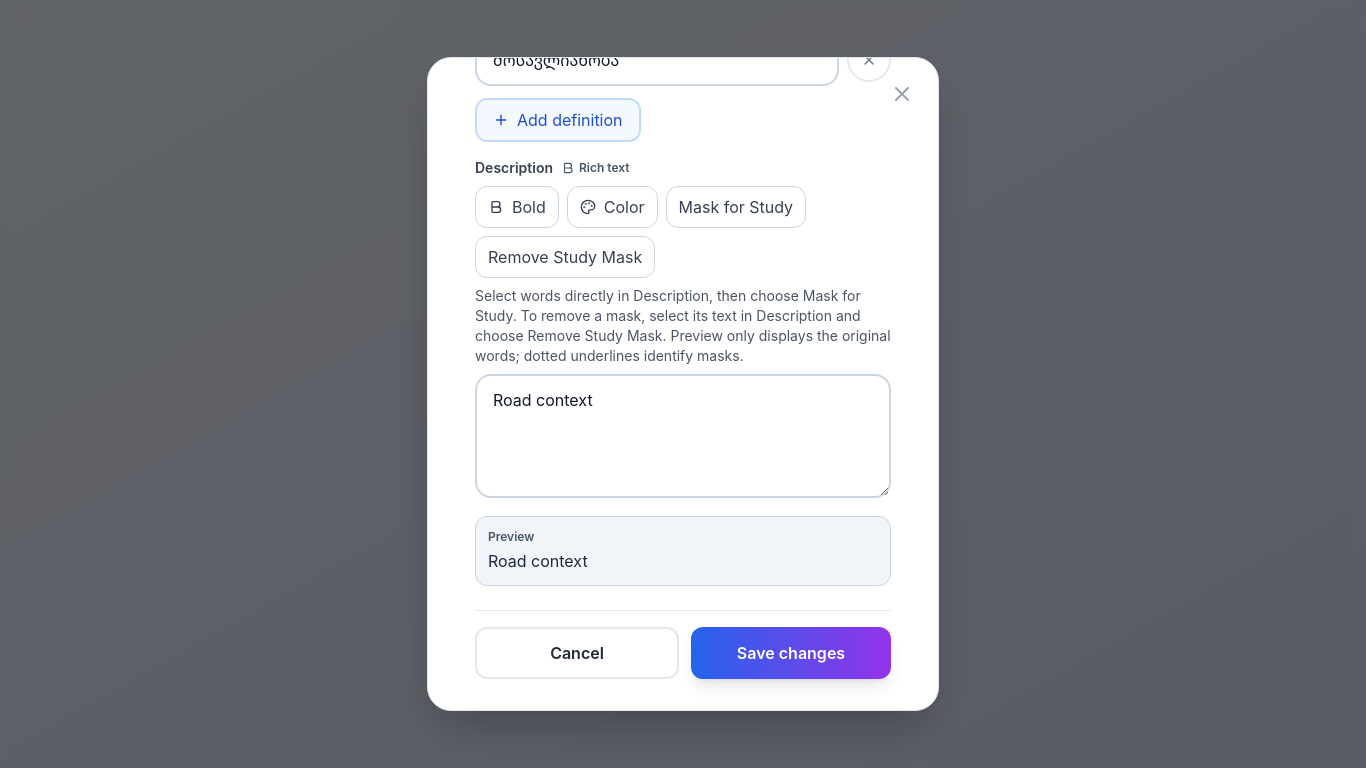
word optimistic concurrency through the Supabase transport › retains the draft without reporting success when the record is deleted
(page scrolled)
Replace the text in the text box with placeholder "Add additional context or example sentences..." with "<b>Keep this draft</b>": (683, 436) [475,374,891,498]
(page scrolled)
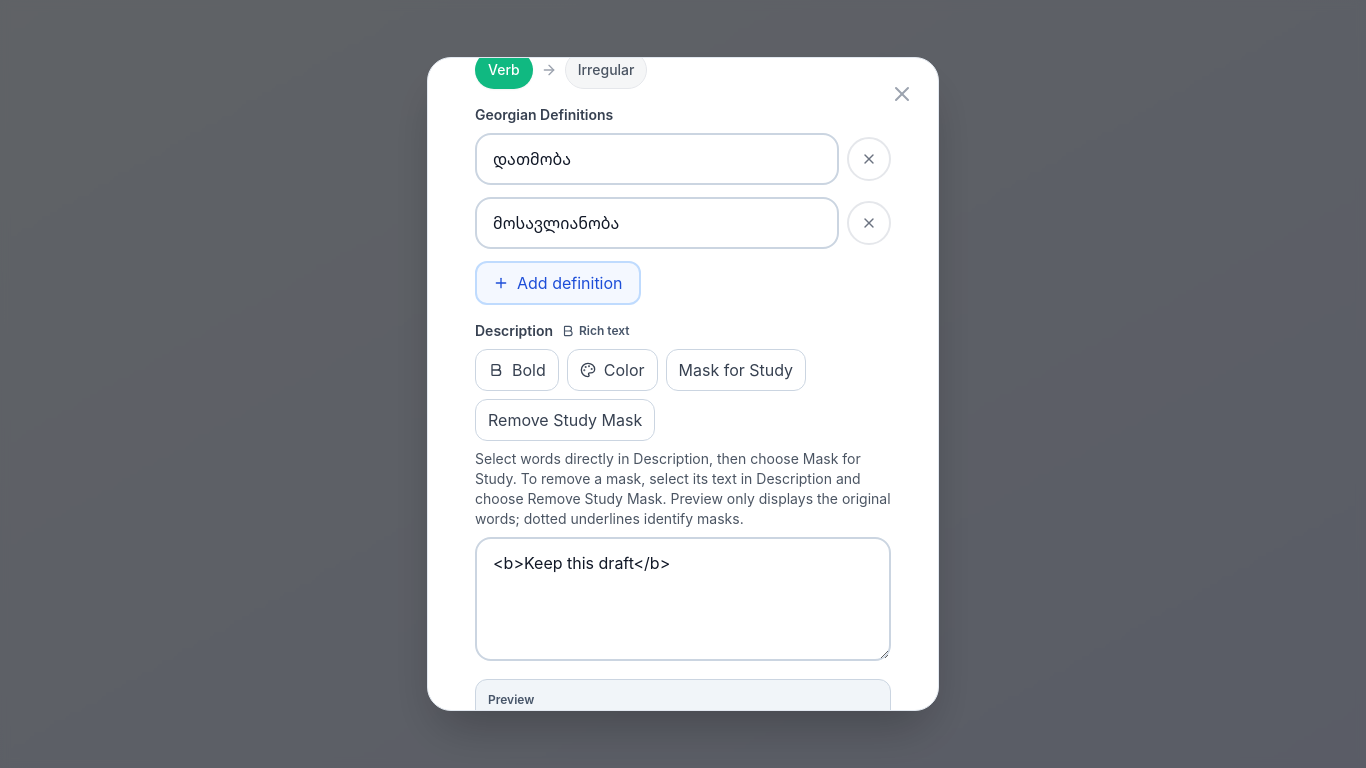
Submit the form with placeholder "Enter the English word"
(page scrolled)
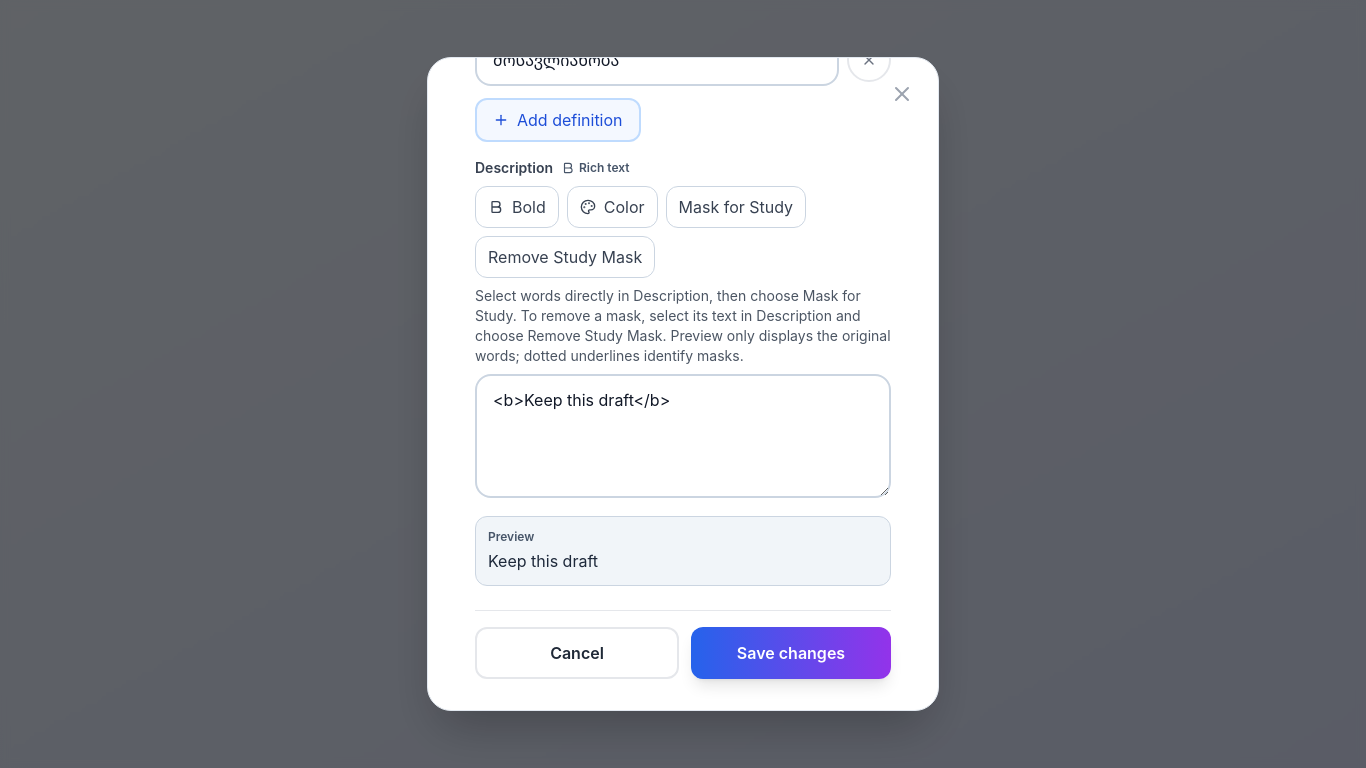
Check: the button "Cancel" is enabled, box [475,627,679,679]
